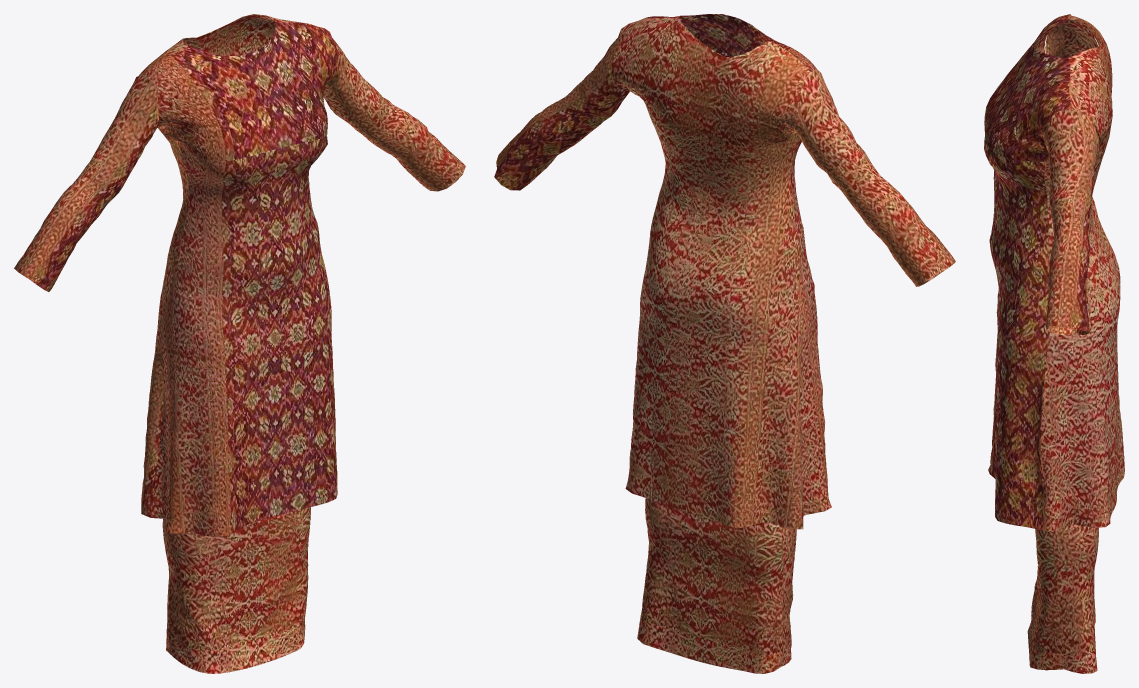
Rendered from songket.glb.
3 views of the same model, side by side, from view 1: azimuth 30°, elevation 25°; view 2: azimuth 150°, elevation 25°; view 3: azimuth 270°, elevation 25° (orthographic). The views are drawn at different scales.
Visible parts, largest first — view 1: floral; view 2: floral; view 3: floral.
Part boxes in pixels (x1,y1,x2,y2): floral: (14,14,465,673); floral: (494,14,955,673); floral: (984,14,1124,673).
Size of the model in its own units: 0.9476 by 1.27 by 0.2645.
Materials: 1 (1 with a texture image).
